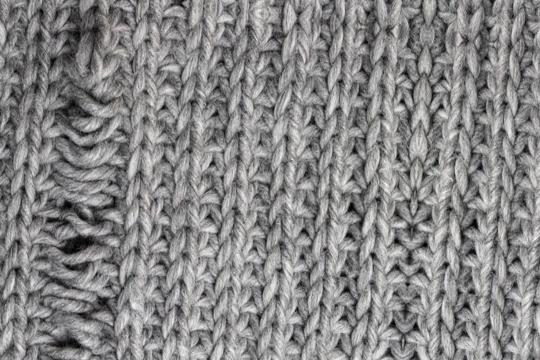slub: (39, 2, 132, 359)
